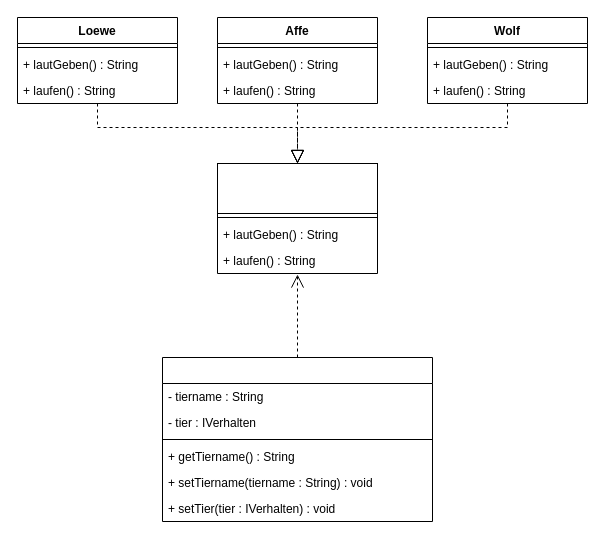
This 605x542 diagram has some shape labels left out. Each missing label, with the box of its shape:
Zoo: (162, 356, 432, 522)
«interface» IVerhalten: (216, 162, 378, 214)
